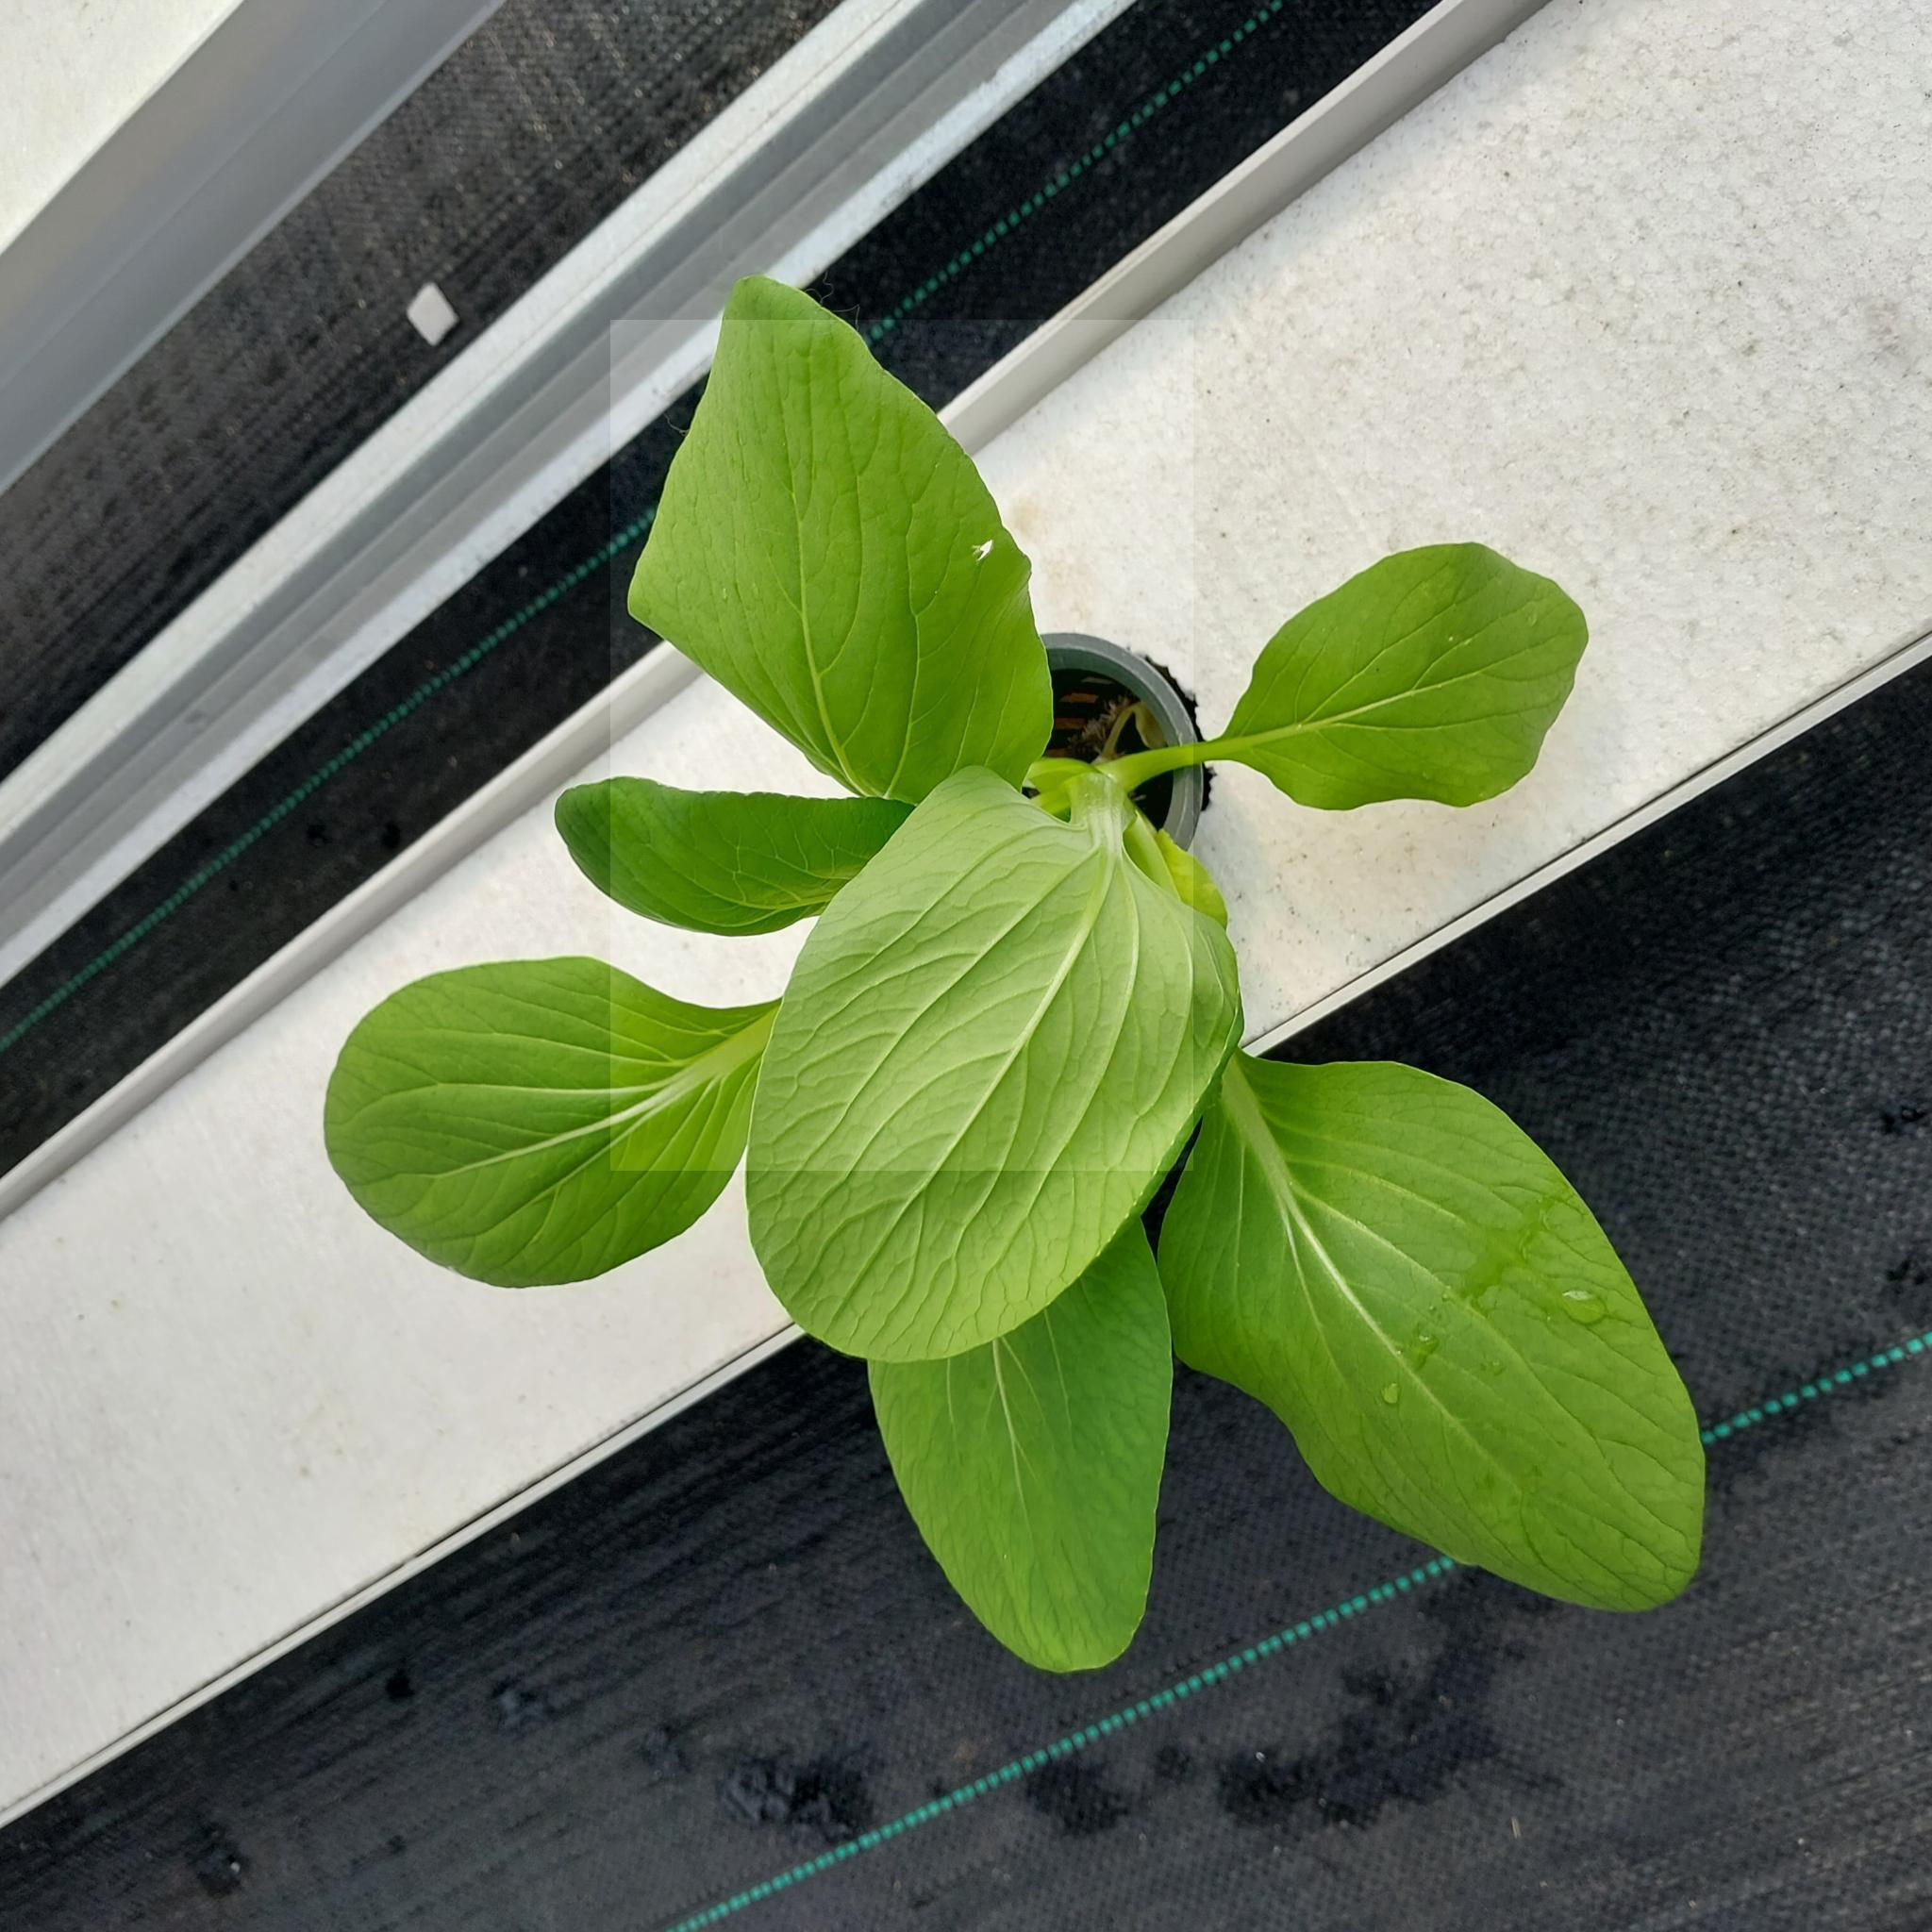Healthy-Pechay: (1161, 1042, 1706, 1619), (757, 763, 1196, 1350), (628, 269, 1035, 819), (322, 954, 786, 1286), (858, 1191, 1154, 1677), (1138, 545, 1598, 810), (554, 778, 924, 934), (1283, 1164, 1463, 1430), (338, 984, 653, 1104), (341, 1079, 621, 1171), (1065, 732, 1260, 800)
